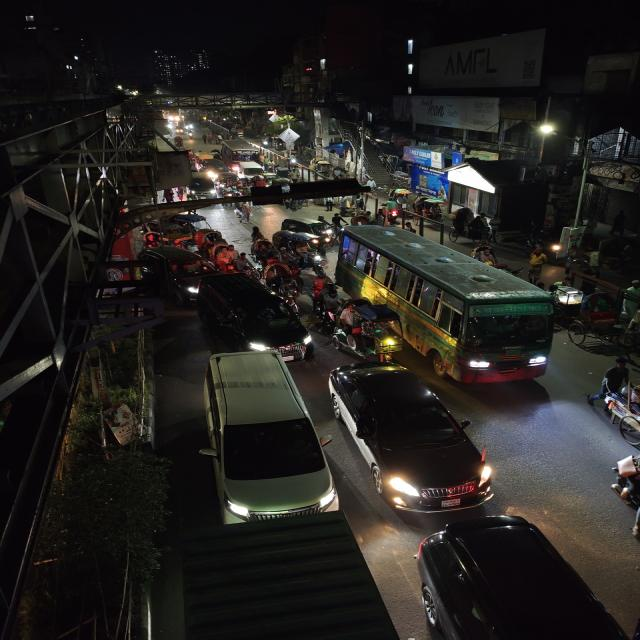bus: (339, 222, 562, 384), (220, 138, 264, 172)
car: (410, 513, 640, 640), (322, 360, 497, 520), (197, 346, 334, 528), (199, 273, 316, 363), (145, 246, 206, 296)
motorcycle: (306, 216, 335, 244)
pedestrian: (449, 204, 474, 242), (468, 210, 493, 244), (233, 200, 254, 226)
rickshaw: (566, 288, 640, 360), (332, 296, 400, 356), (278, 231, 327, 274), (267, 262, 304, 300), (250, 238, 282, 272), (209, 244, 239, 273), (198, 228, 230, 253)
